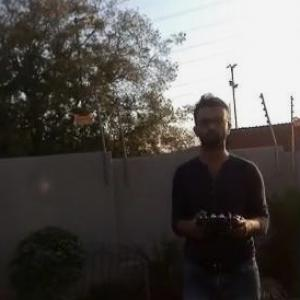follow: (167, 84, 276, 299)
